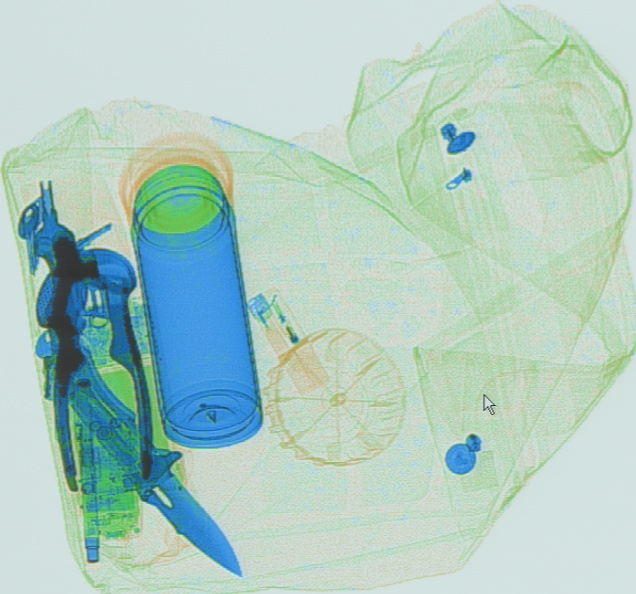knife: (38, 321, 240, 578)
lighter: (242, 283, 330, 394)
